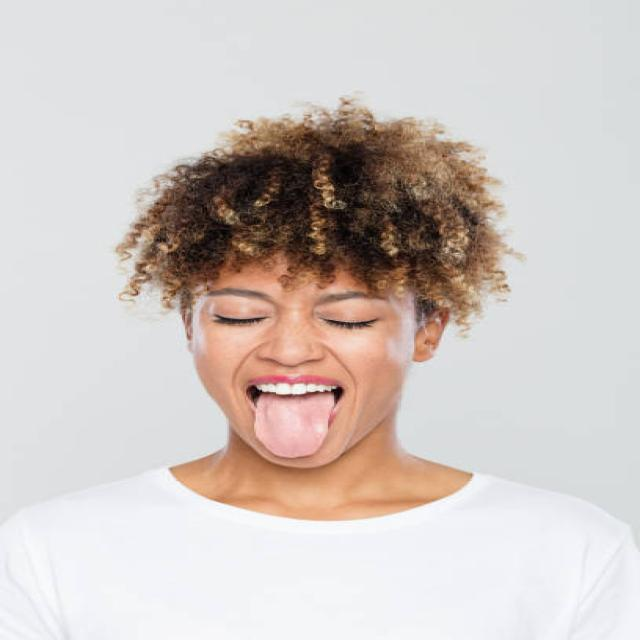tongue: (247, 392, 338, 460)
